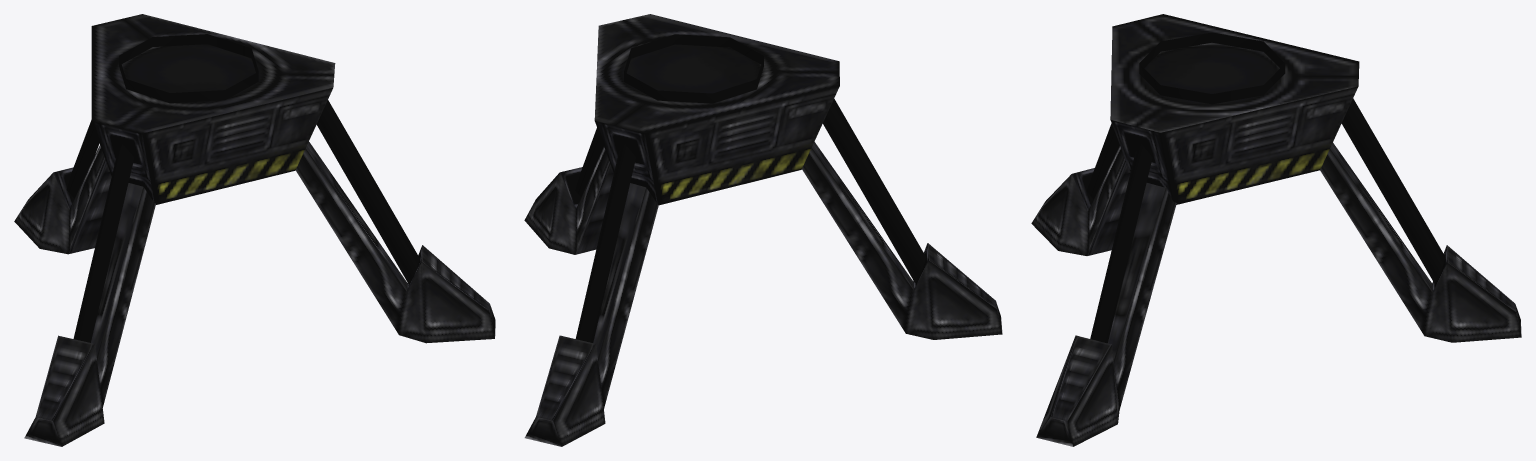
3 renders of one model, left to right at view 1: azimuth 30°, elevation 25°; view 2: azimuth 150°, elevation 25°; view 3: azimuth 270°, elevation 25°, orthographic.
Visible parts, largest first — view 1: base; view 2: base; view 3: base.
Boxes of the visible parts, <box> form: base: <box>14,14,495,446</box>; base: <box>524,14,1002,446</box>; base: <box>1031,14,1521,446</box>.
Size of the model in its own units: 40.6 by 21.67 by 36.08.
2 materials, 2 textured.
